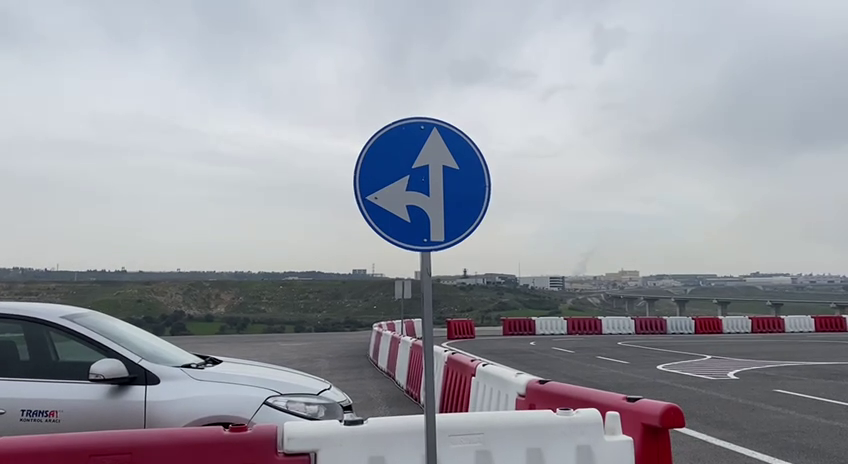forwardAndLeft: (349, 111, 496, 254)
